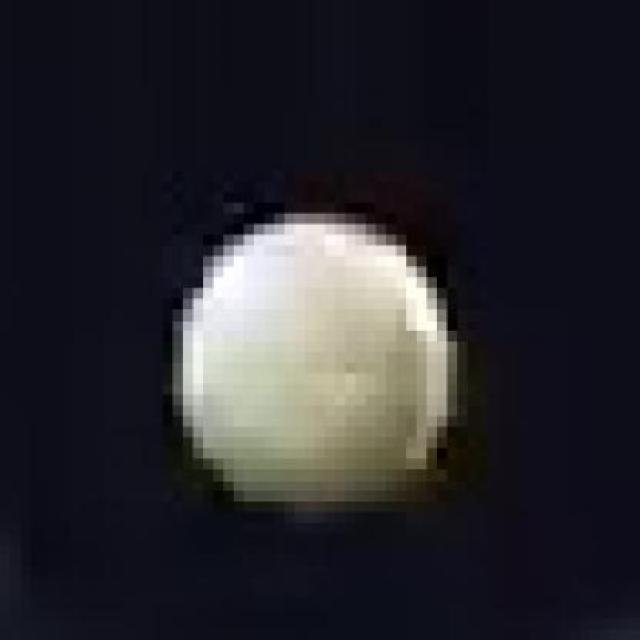Cricket ball: (166, 204, 472, 532)
